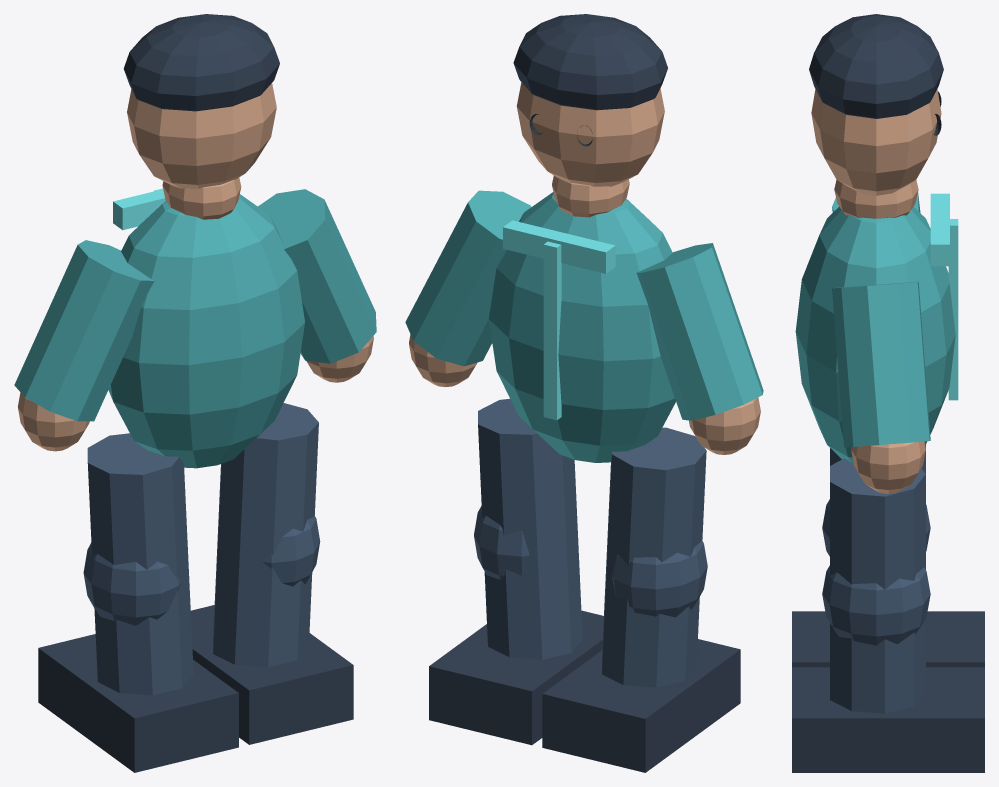
Rendered from blank-life-avatar.glb.
The picture shows the model from 3 angles, left to right: view 1: azimuth 30°, elevation 25°; view 2: azimuth 150°, elevation 25°; view 3: azimuth 270°, elevation 25°; orthographic projection.
Parts seen in each view (by area): view 1: BlankLifeDeveloperAvatar; view 2: BlankLifeDeveloperAvatar; view 3: BlankLifeDeveloperAvatar.
Boxes of the visible parts, x1,y1,x2,y2 form: BlankLifeDeveloperAvatar: [14, 14, 376, 772]; BlankLifeDeveloperAvatar: [405, 14, 763, 772]; BlankLifeDeveloperAvatar: [792, 14, 984, 772].
Bounding box in the file's own units: 33.63 × 63.5 × 16.
